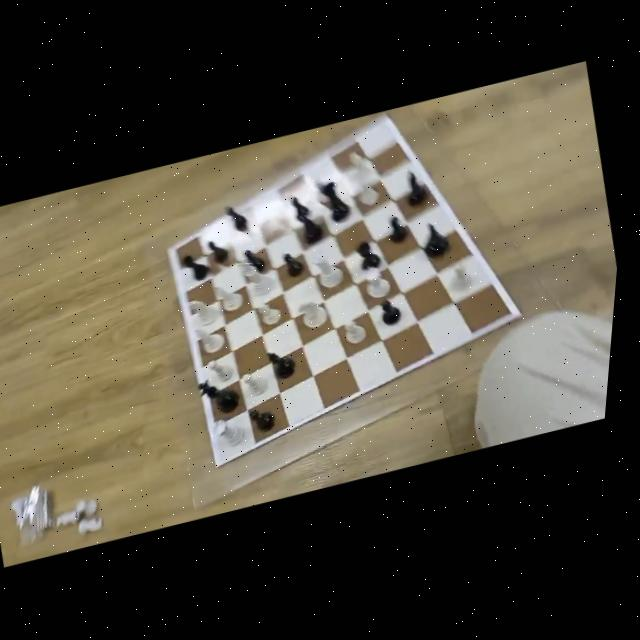chessboard-corner: (220, 460, 228, 470), (522, 310, 530, 319), (384, 112, 391, 118), (167, 246, 174, 252)
